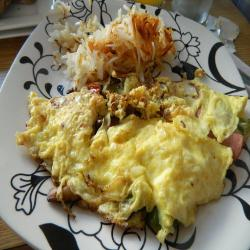omelette: (28, 96, 236, 230)
